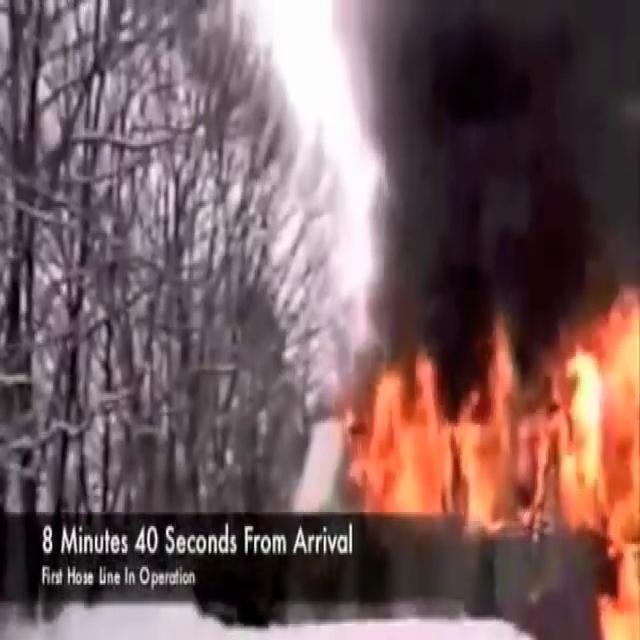Fire: (335, 281, 640, 601)
Smoke: (333, 0, 640, 354)
